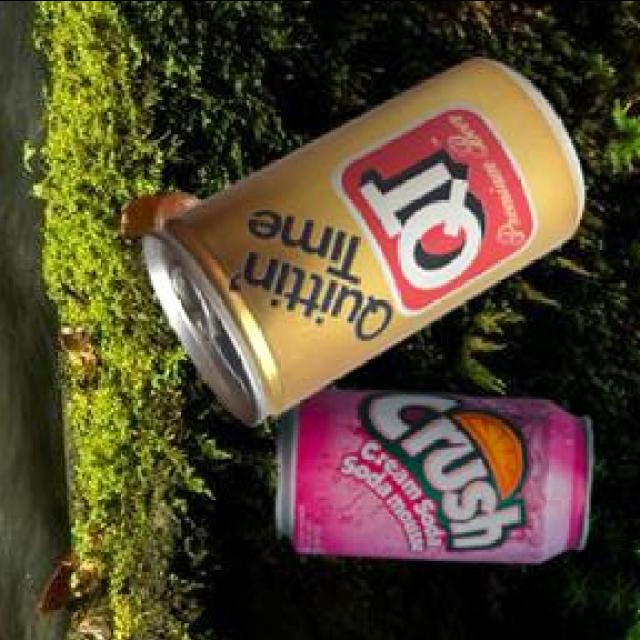logam: (139, 61, 581, 428), (272, 392, 590, 566), (117, 194, 197, 241)
